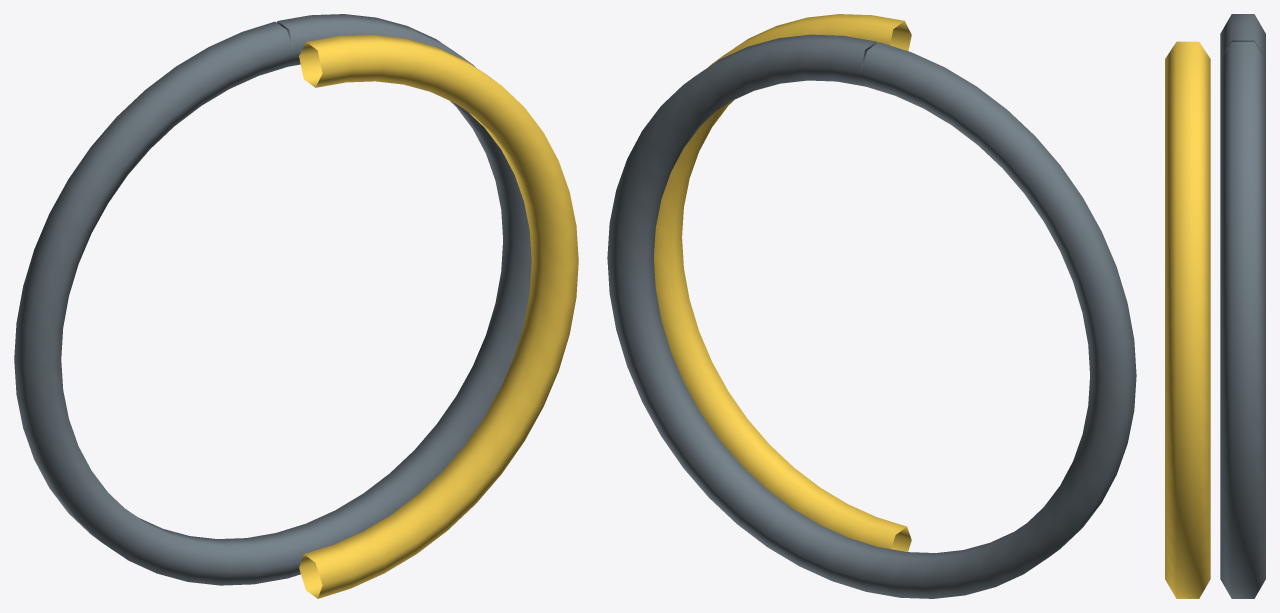
Rendered from progress-50.glb.
3 renders of one model, left to right at view 1: azimuth 30°, elevation 25°; view 2: azimuth 150°, elevation 25°; view 3: azimuth 270°, elevation 25°, orthographic. The views are drawn at different scales.
Visible parts, largest first — view 1: background, progress; view 2: background, progress; view 3: background, progress.
Part boxes in pixels (left/top/right/bottom): background: left=14, top=14, right=531, bottom=585; progress: left=299, top=35, right=578, bottom=598; background: left=607, top=34, right=1136, bottom=598; progress: left=654, top=14, right=911, bottom=551; background: left=1220, top=14, right=1265, bottom=598; progress: left=1165, top=41, right=1210, bottom=598.
Bounding box in the file's own units: 0.9006 × 0.9006 × 0.155.
